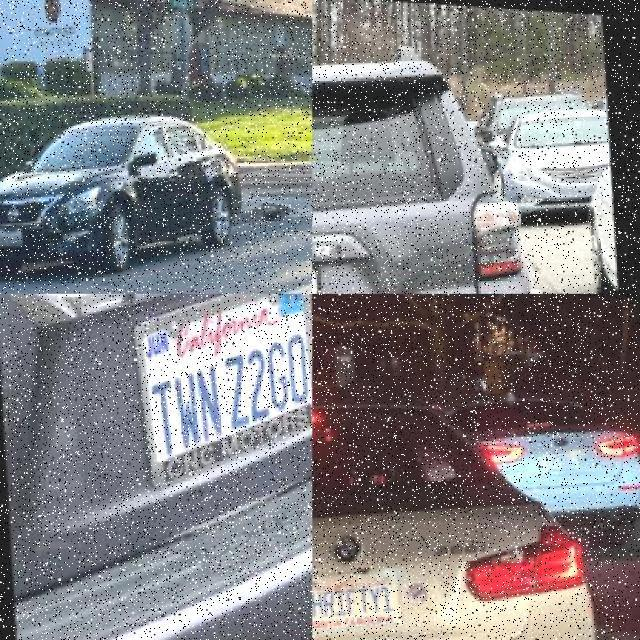LicensePlate: (137, 293, 311, 484), (311, 564, 407, 628), (3, 226, 27, 244)
